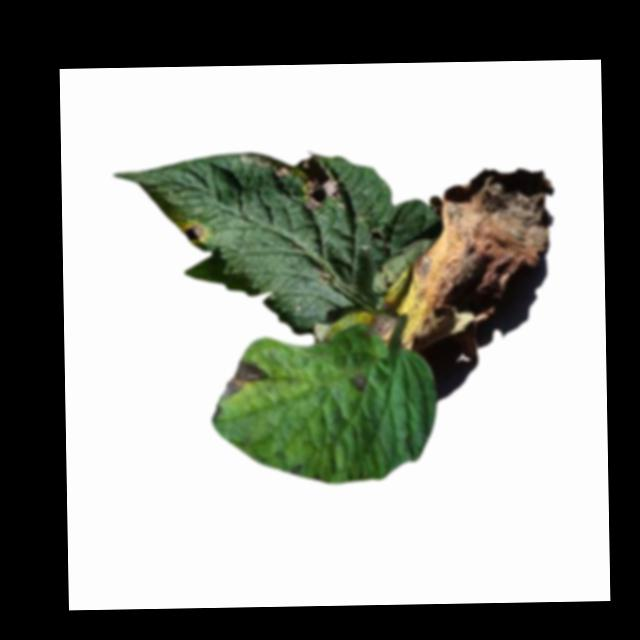Early_blight: (369, 166, 562, 349), (292, 155, 340, 212), (220, 358, 275, 401), (184, 221, 209, 245), (352, 374, 368, 394)
